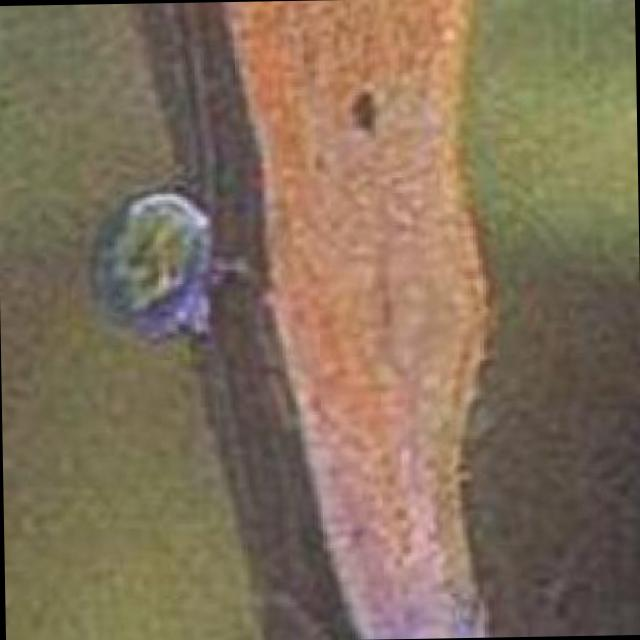stem-borer: (240, 0, 493, 640)
